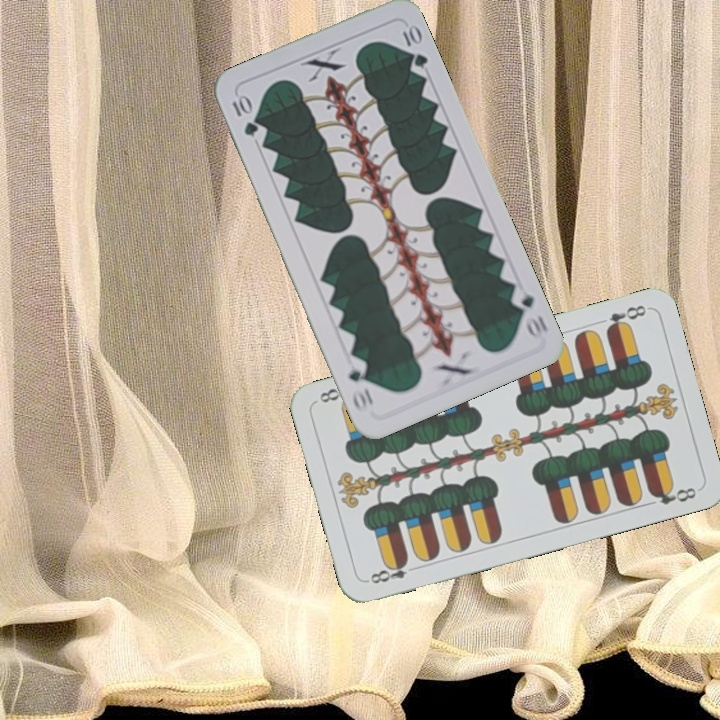E8: (363, 555, 421, 587), (602, 301, 649, 335)
G10: (507, 287, 551, 340), (228, 91, 261, 139)
